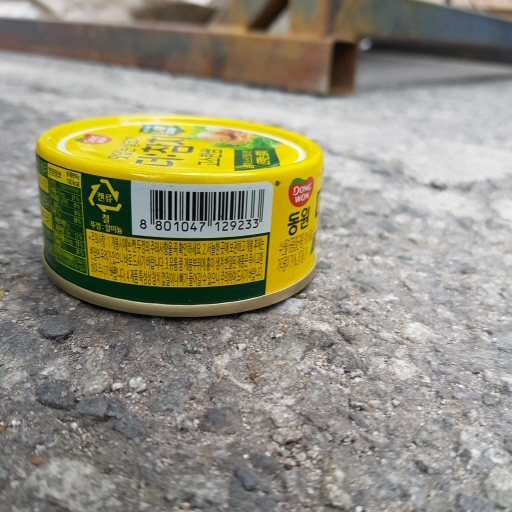Metal_1: (32, 108, 328, 317)
